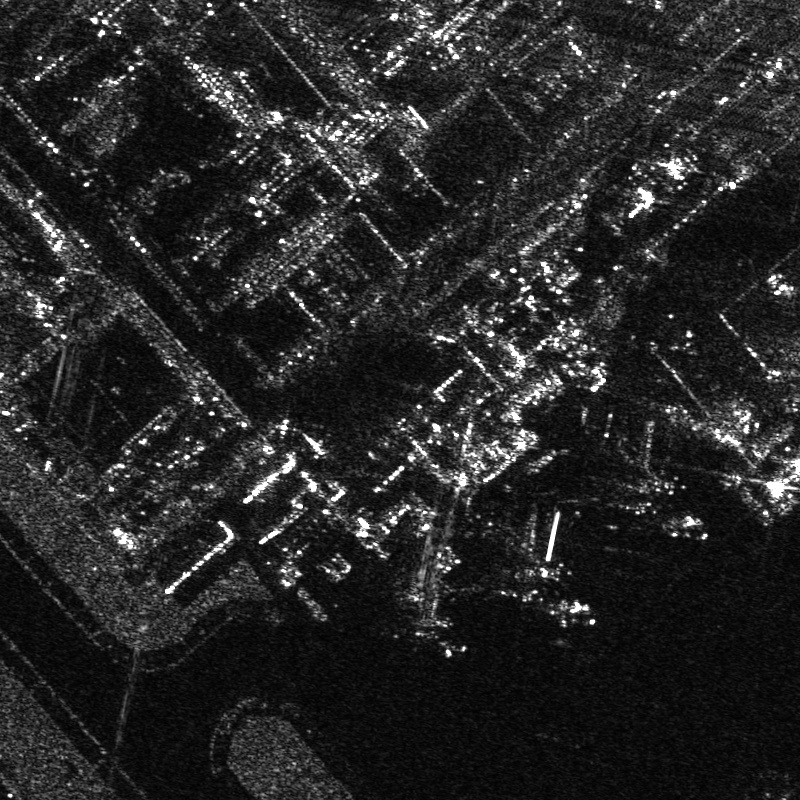Boeing737: (374, 538, 484, 652)
Boeing787: (573, 412, 671, 497), (475, 509, 566, 592)
